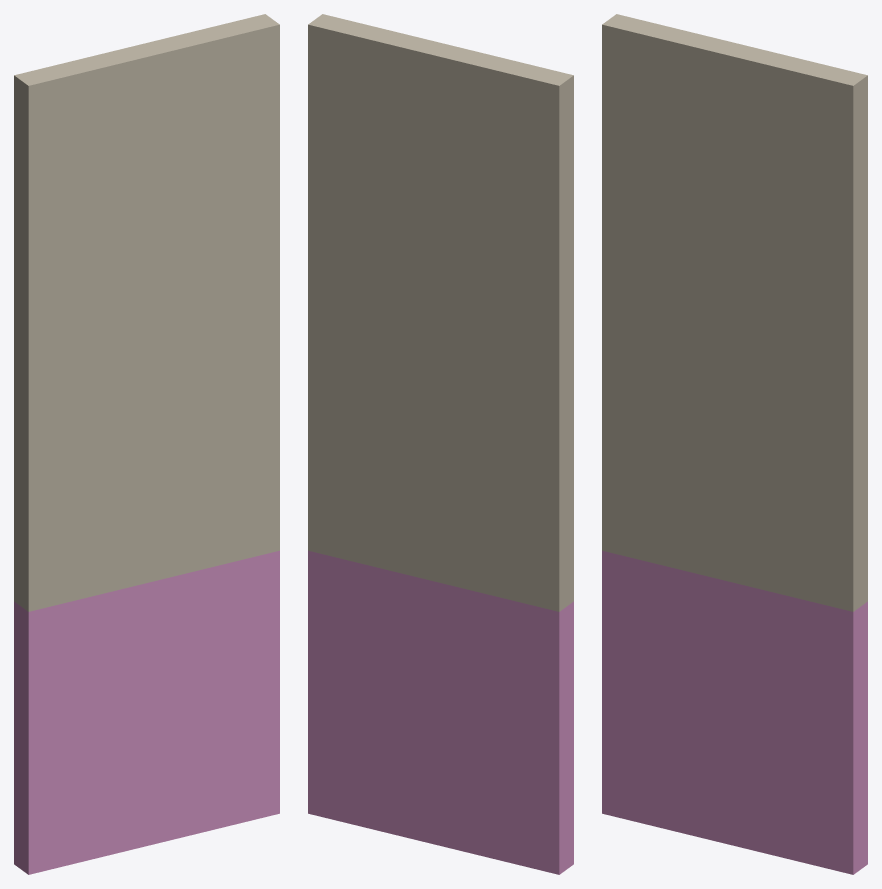
Rendered from Mesh_Wall2Colors_H1.fbx.
3 views of the same model, side by side, from view 1: azimuth 30°, elevation 25°; view 2: azimuth 150°, elevation 25°; view 3: azimuth 330°, elevation 25° (orthographic).
Visible parts, largest first — view 1: Mesh_Wall2Colors_H1; view 2: Mesh_Wall2Colors_H1; view 3: Mesh_Wall2Colors_H1.
Part boxes in pixels (<box>): Mesh_Wall2Colors_H1: <box>14,14,279,874</box>; Mesh_Wall2Colors_H1: <box>308,14,573,874</box>; Mesh_Wall2Colors_H1: <box>602,14,867,874</box>.
Size of the model in its own units: 1 by 3 by 0.1.
